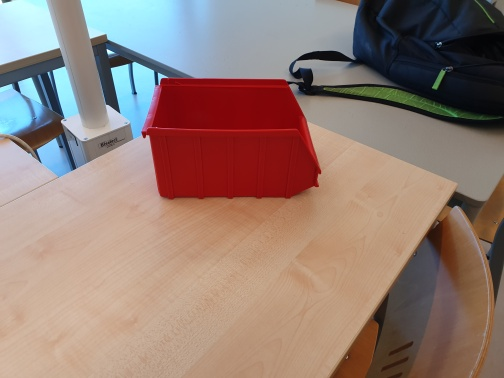tray_left: (140, 127, 323, 200)
